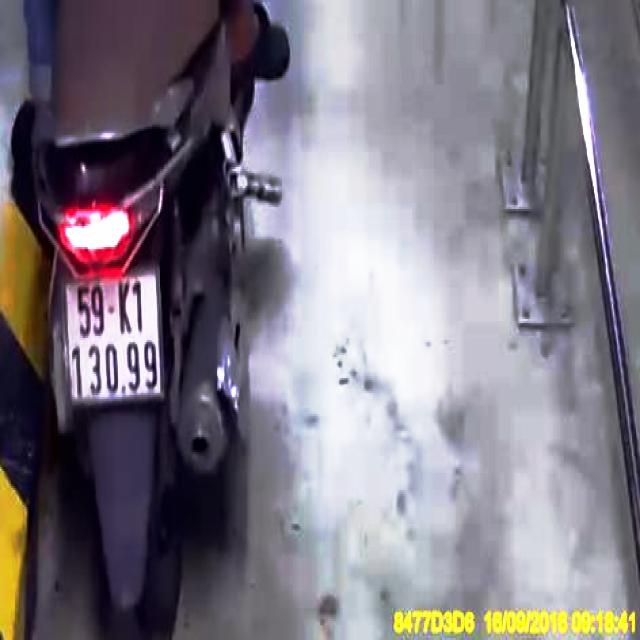license_plate: (68, 271, 162, 403)
